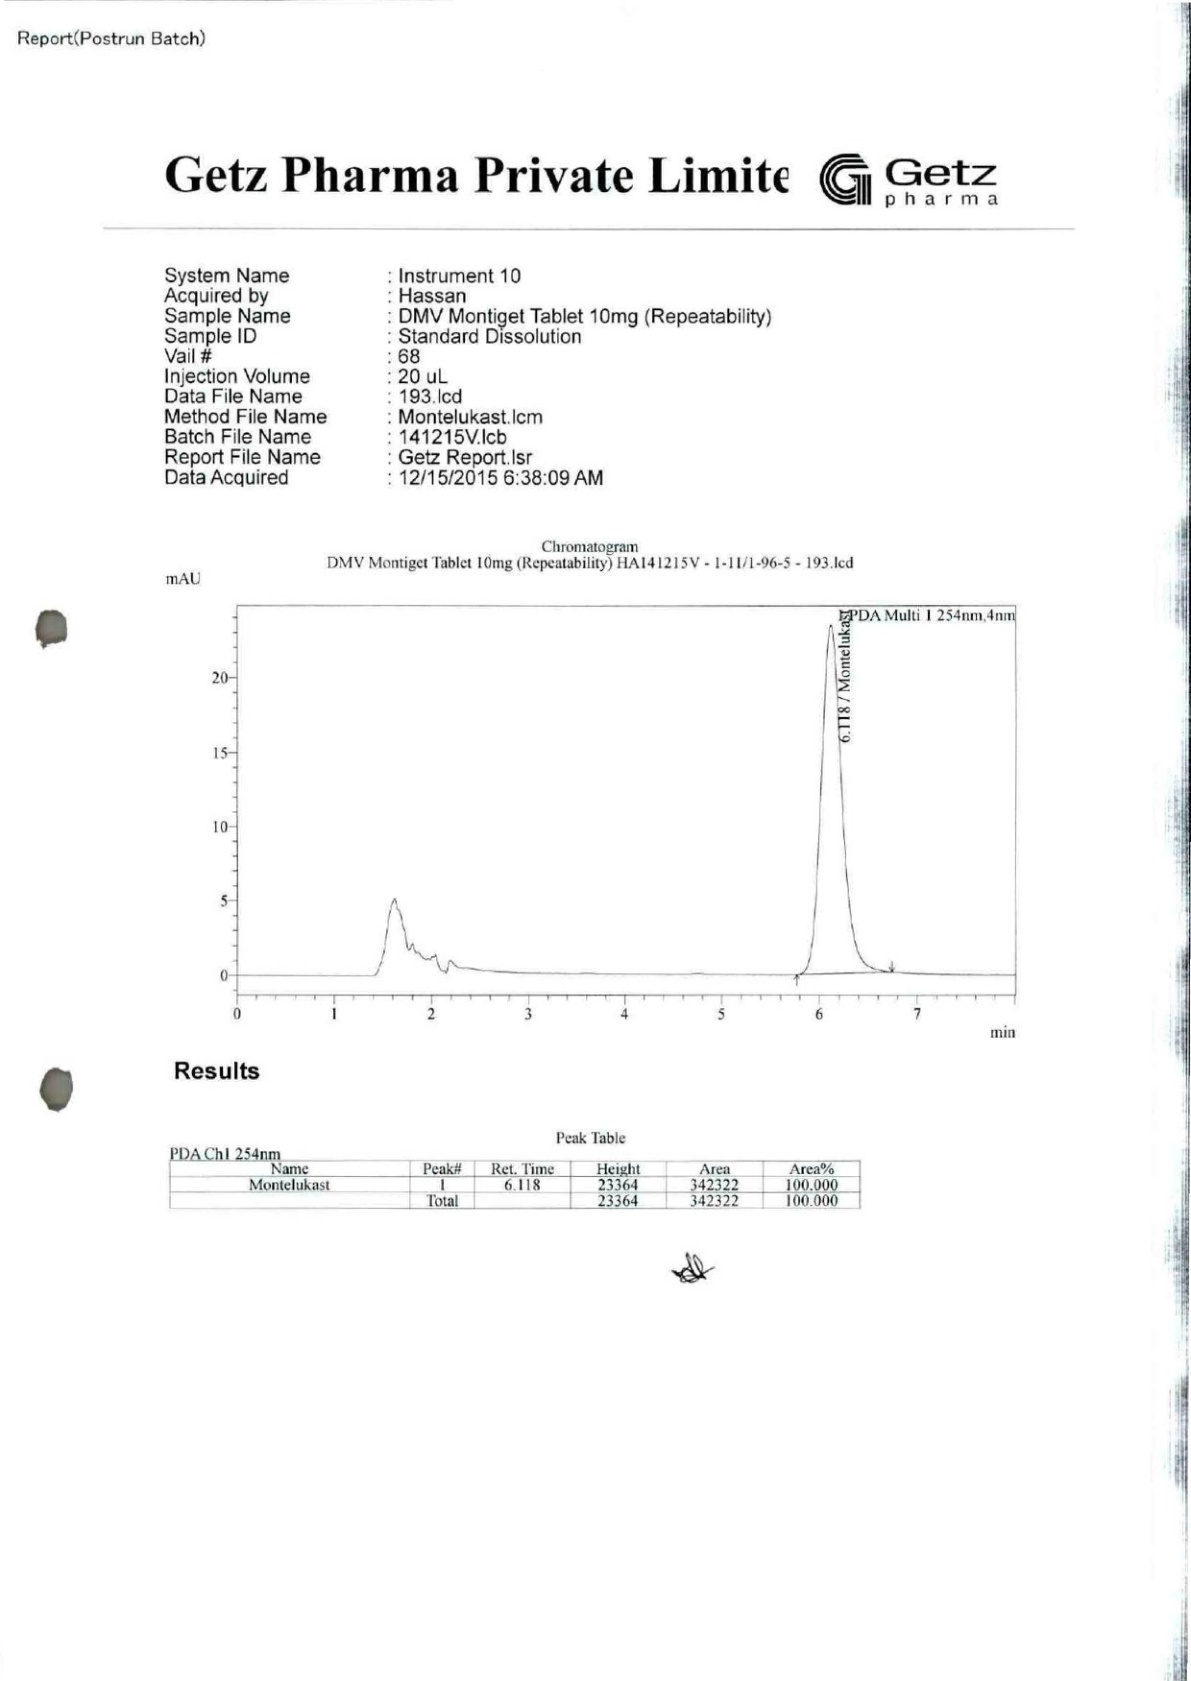full_lined: (168, 1159, 862, 1210)
nolines: (157, 262, 775, 490)
